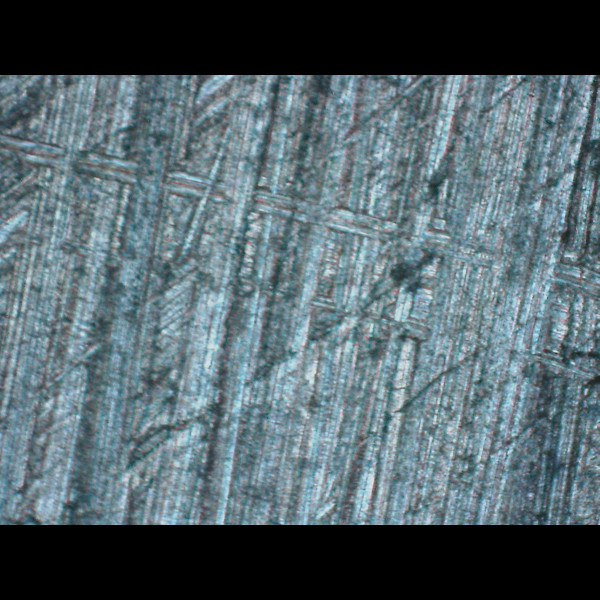d: (4, 120, 600, 392)
